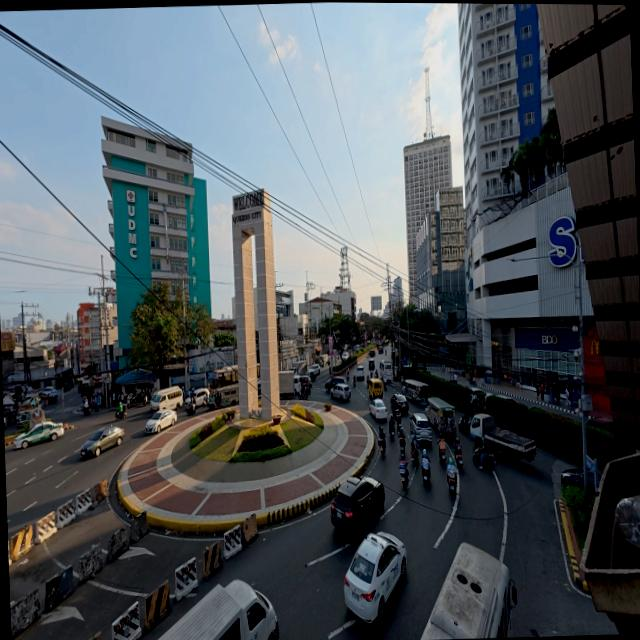car: (340, 529, 408, 624), (329, 472, 386, 537), (77, 424, 124, 459), (12, 421, 66, 448), (144, 408, 178, 435), (327, 379, 352, 402)
